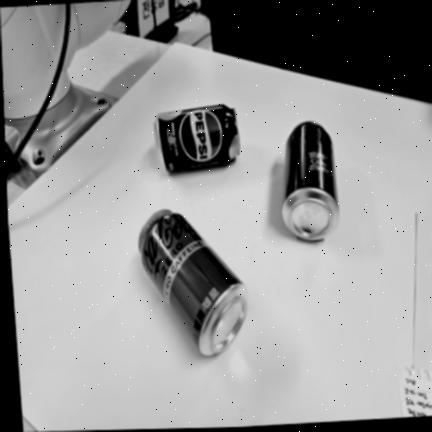can_coke_decaf: (136, 208, 249, 357)
can_coke_zero: (282, 121, 340, 244)
can_pepsi_zero: (151, 104, 240, 173)
